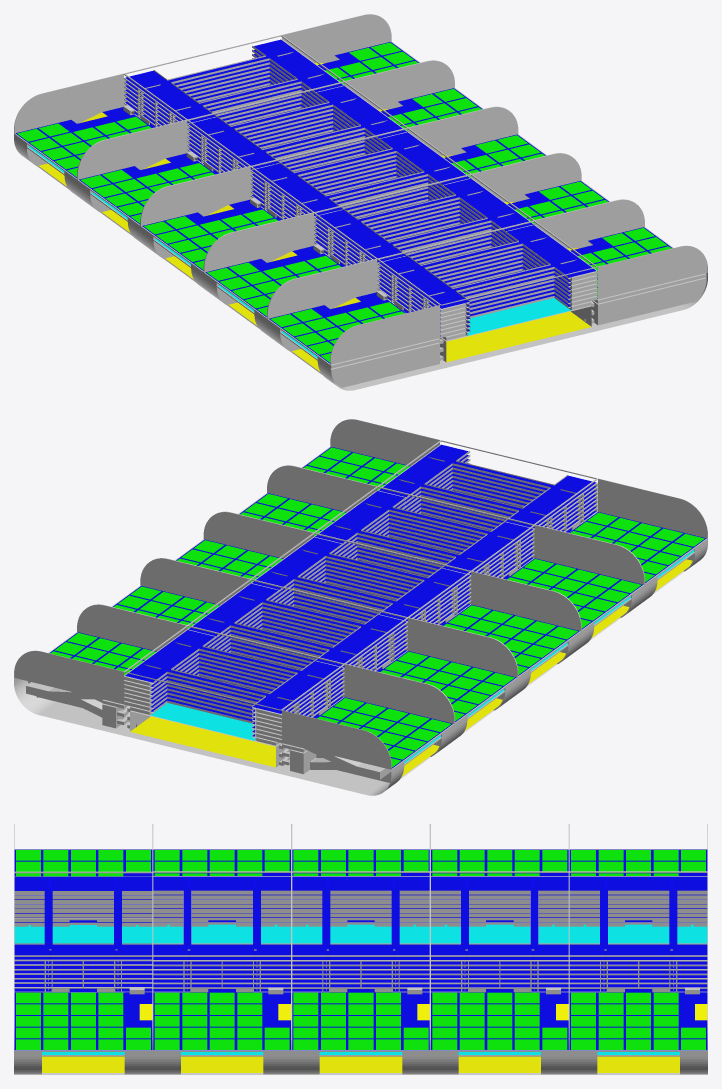
The model's file is Spaceship_-_Small_Colony_Ship_-_MK002.fbx.
The picture shows the model from 3 angles, top to bottom: view 1: azimuth 30°, elevation 25°; view 2: azimuth 150°, elevation 25°; view 3: azimuth 270°, elevation 25°; orthographic projection. The views are drawn at different scales.
Parts seen in each view (by area): view 1: InteriorMk2.000, HullMk2.000, Home.000, InteriorMk2.002, InteriorMk2.001, InteriorMk2.003, InteriorMk2.004, HullMk2.002, HullMk2.003, HullMk2.004, HullMk2.001, Home.004 (+3 smaller); view 2: InteriorMk2.004, HullMk2.004, InteriorMk2.002, InteriorMk2.001, InteriorMk2.003, InteriorMk2.000, Home.004, HullMk2.002, HullMk2.001, HullMk2.000, HullMk2.003, Home.000 (+3 smaller); view 3: InteriorMk2.000, InteriorMk2.002, InteriorMk2.001, InteriorMk2.003, InteriorMk2.004, Home.000, Home.004, Home.002, Home.001, Home.003, HullMk2.002, HullMk2.003 (+3 smaller).
Boxes of the visible parts, box(x1,y1,x2,y2) form: InteriorMk2.000: box(377, 220, 597, 362); HullMk2.000: box(267, 199, 707, 390); Home.000: box(269, 227, 706, 387); InteriorMk2.002: box(250, 127, 471, 220); InteriorMk2.001: box(314, 174, 534, 290); InteriorMk2.003: box(187, 81, 407, 174); InteriorMk2.004: box(124, 35, 344, 127); HullMk2.002: box(140, 107, 569, 293); HullMk2.003: box(77, 60, 500, 246); HullMk2.004: box(14, 14, 437, 200); HullMk2.001: box(204, 153, 628, 338); Home.004: box(15, 42, 419, 189); InteriorMk2.004: box(124, 625, 344, 767); HullMk2.004: box(14, 604, 454, 795); InteriorMk2.002: box(250, 532, 471, 625); InteriorMk2.001: box(314, 486, 534, 579); InteriorMk2.003: box(187, 579, 407, 671); InteriorMk2.000: box(377, 440, 597, 532); Home.004: box(26, 632, 452, 782); HullMk2.002: box(152, 512, 581, 698); HullMk2.001: box(221, 465, 644, 651); HullMk2.000: box(284, 419, 707, 605); HullMk2.003: box(93, 558, 517, 743); Home.000: box(302, 447, 706, 594); InteriorMk2.000: box(14, 871, 152, 992); InteriorMk2.002: box(291, 871, 430, 992); InteriorMk2.001: box(152, 871, 291, 992); InteriorMk2.003: box(430, 871, 569, 992); InteriorMk2.004: box(569, 871, 707, 992); Home.000: box(14, 849, 152, 1074); Home.004: box(569, 849, 707, 1074); Home.002: box(292, 849, 429, 1074); Home.001: box(153, 849, 290, 1074); Home.003: box(431, 849, 568, 1074); HullMk2.002: box(291, 824, 430, 1074); HullMk2.003: box(430, 824, 569, 1074).
Size of the model in its own units: 38200 by 6200 by 55500.
